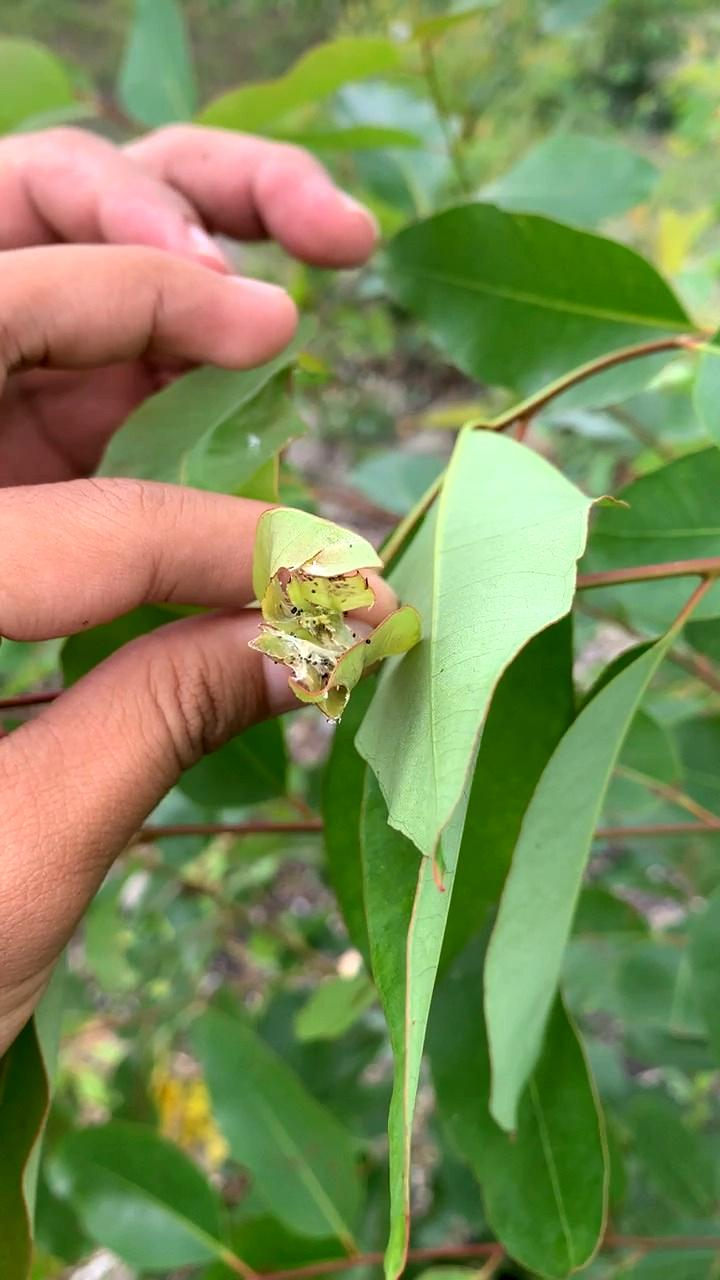Leaf Roller - Leaf: (255, 510, 419, 715)
